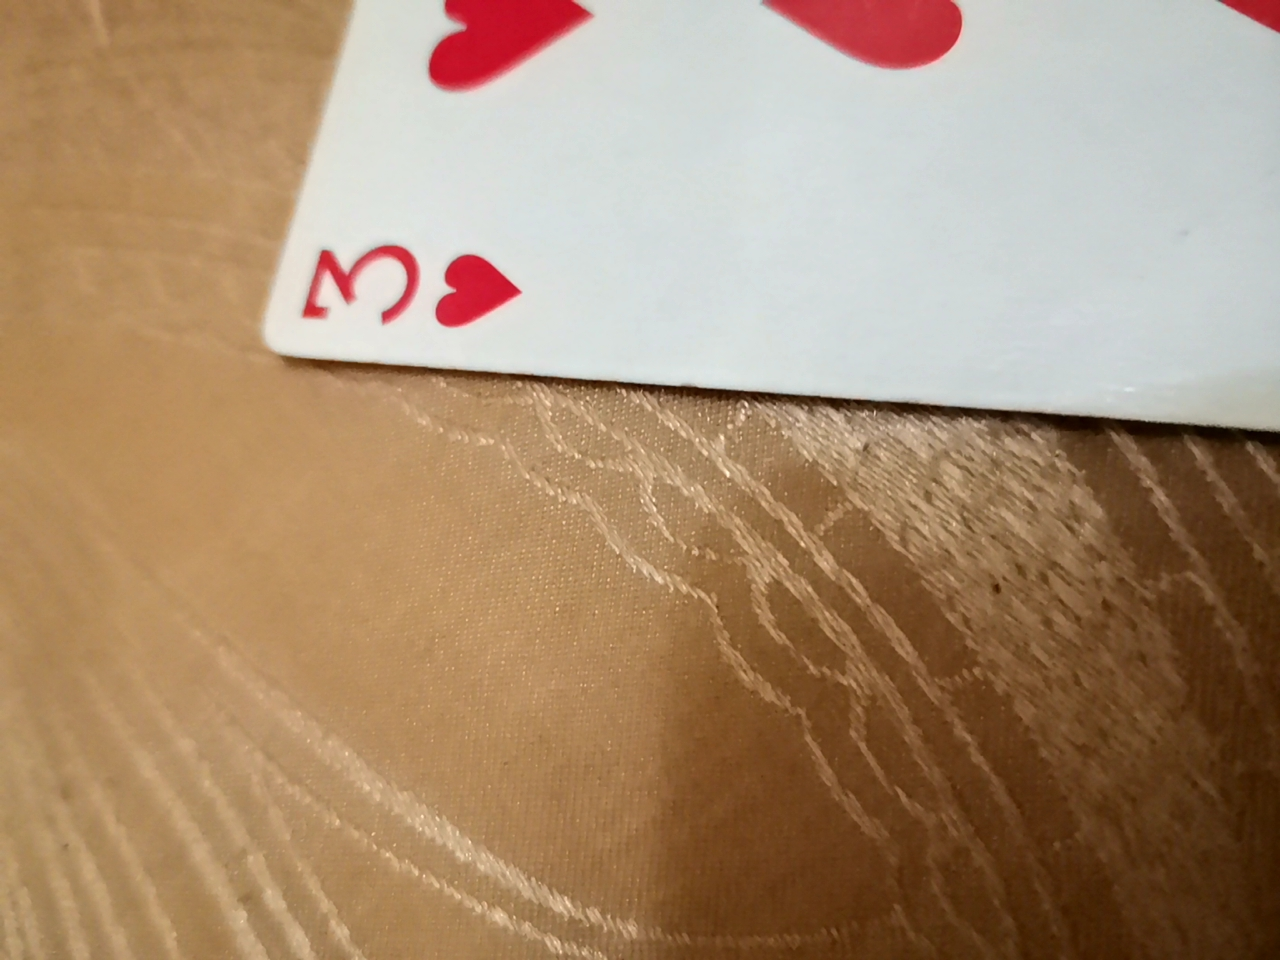hx 3: (259, 4, 1275, 451)
